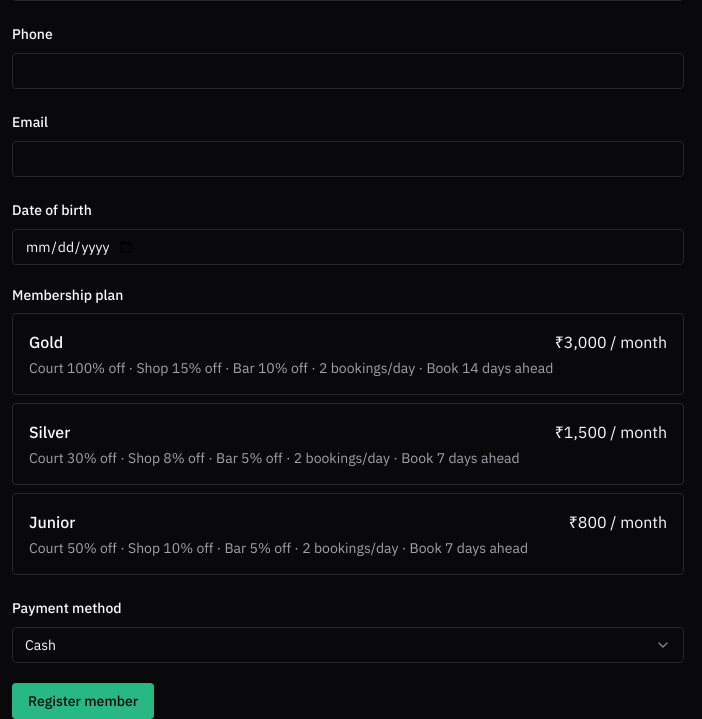
New member form › blocks an incomplete registration
(page scrolled)
Click the button "Register member": (83, 701) [12,683,154,718]
(page scrolled)
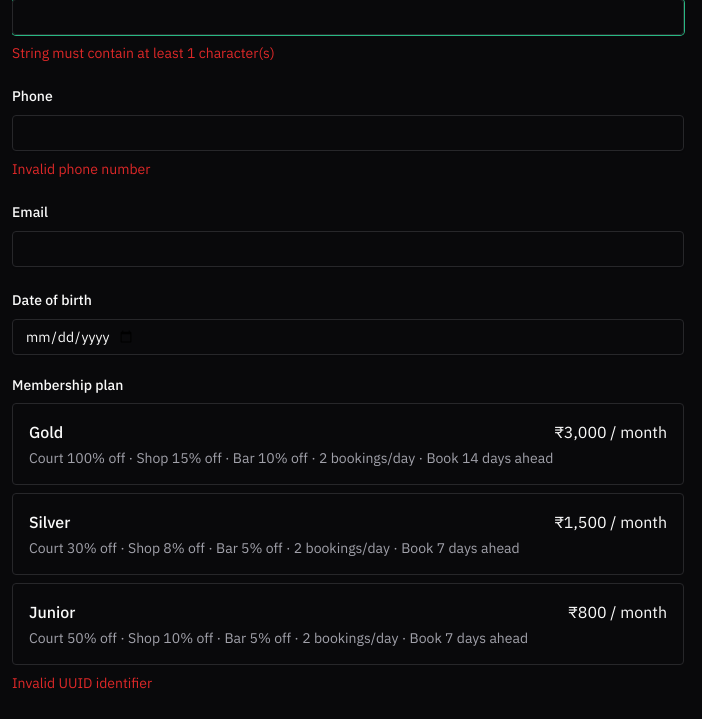
Expected: the message "String must contain at least 1 character(s)" is shown, [12,44,275,62]
